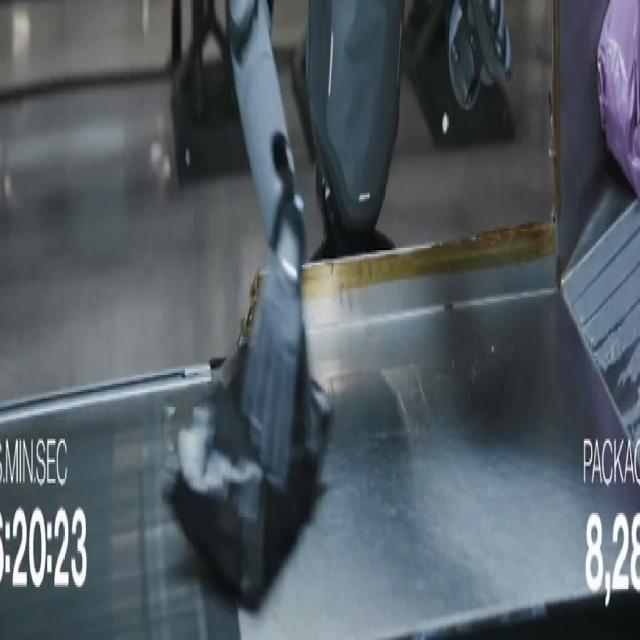package: (164, 344, 330, 608), (598, 0, 639, 194)
